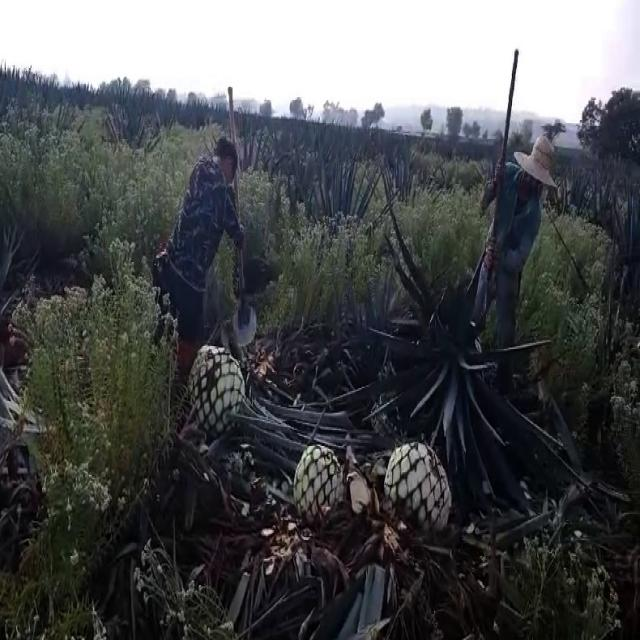agave: (386, 432, 451, 546), (185, 340, 248, 442), (294, 442, 344, 530)
